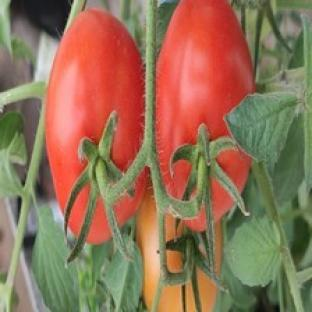Tomato: (46, 9, 144, 211), (137, 189, 160, 309)
